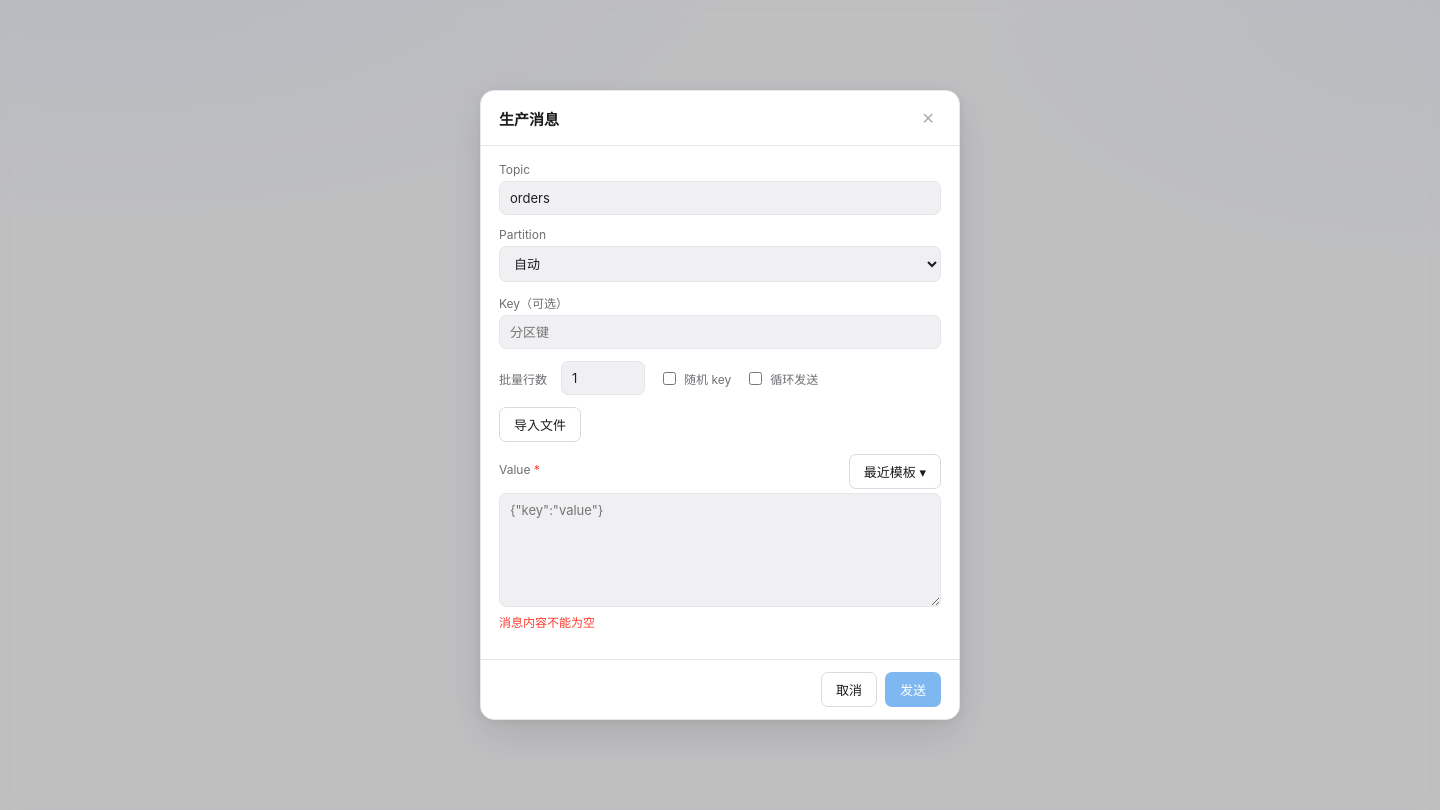
ProducerPanel › sends the same value N times in loop mode and shows the batch summary
The image size is (1440, 810).
Type "payload" into the text box with test id "input-value" at x=720, y=550, box x1=499 y1=493 x2=941 y2=607
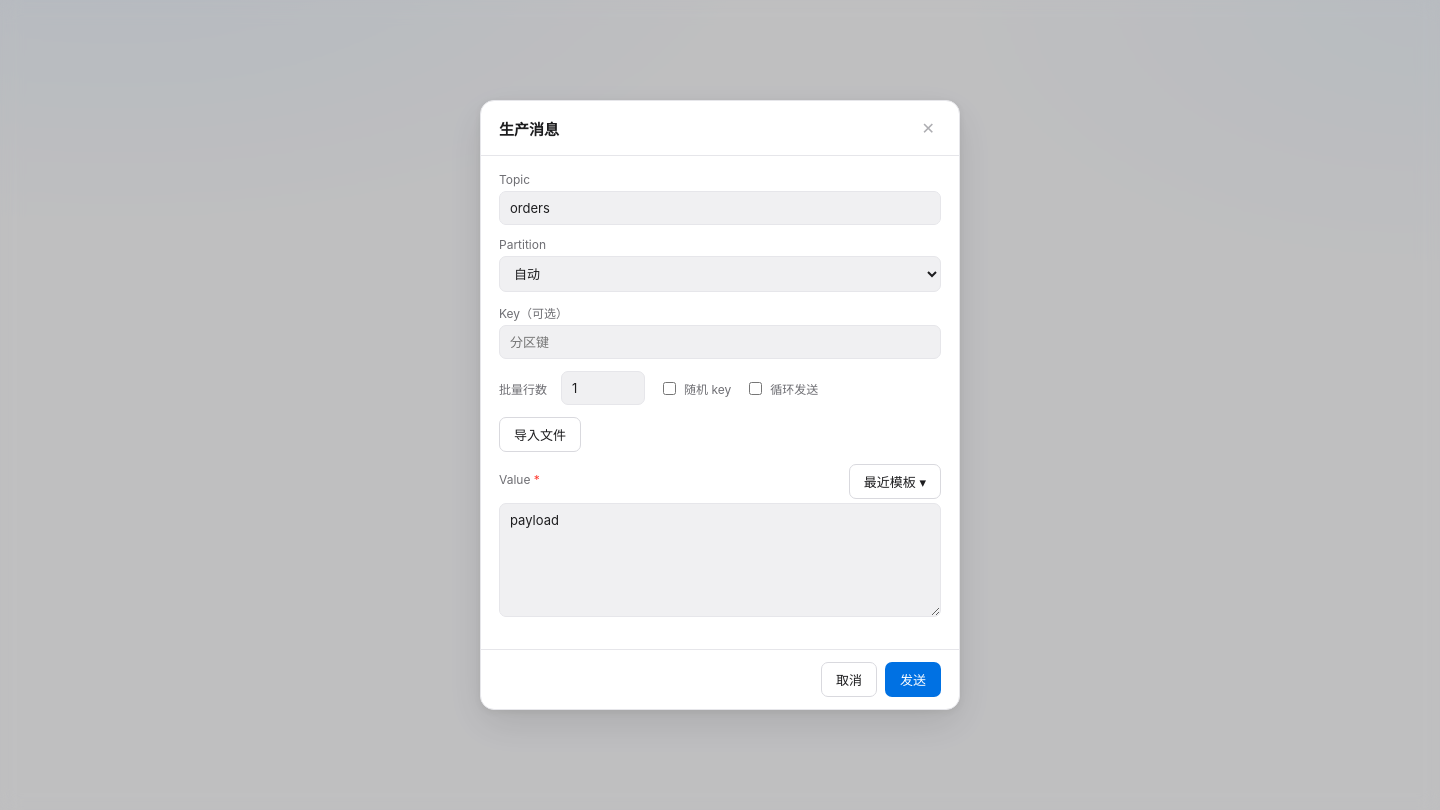
Replace the text in the number field with test id "input-count" with "3" at x=603, y=388, box x1=561 y1=371 x2=645 y2=405
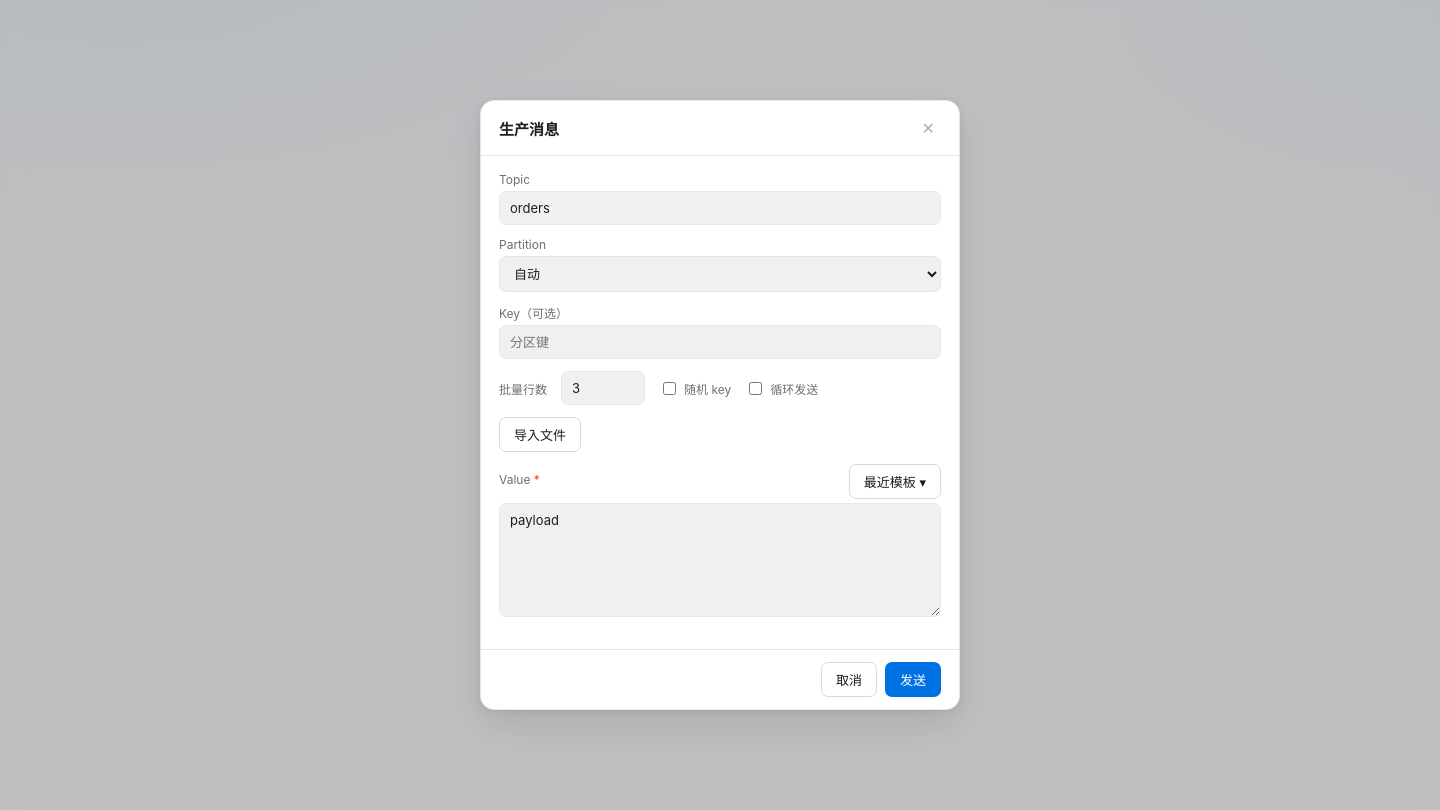
Click the checkbox with test id "input-loop" at x=756, y=388, box x1=749 y1=382 x2=762 y2=394
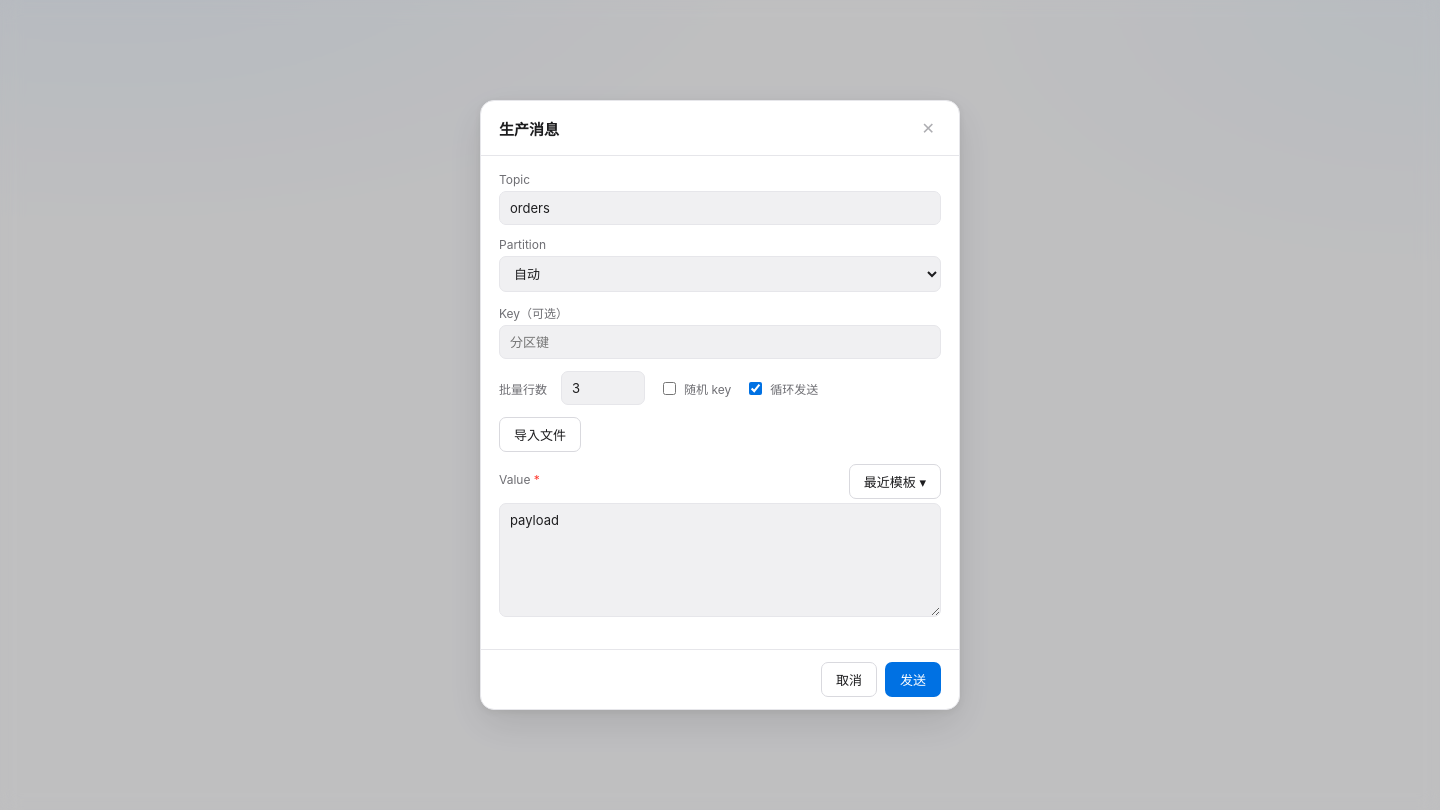
Click the button with test id "btn-produce" at x=913, y=680, box x1=885 y1=662 x2=941 y2=697
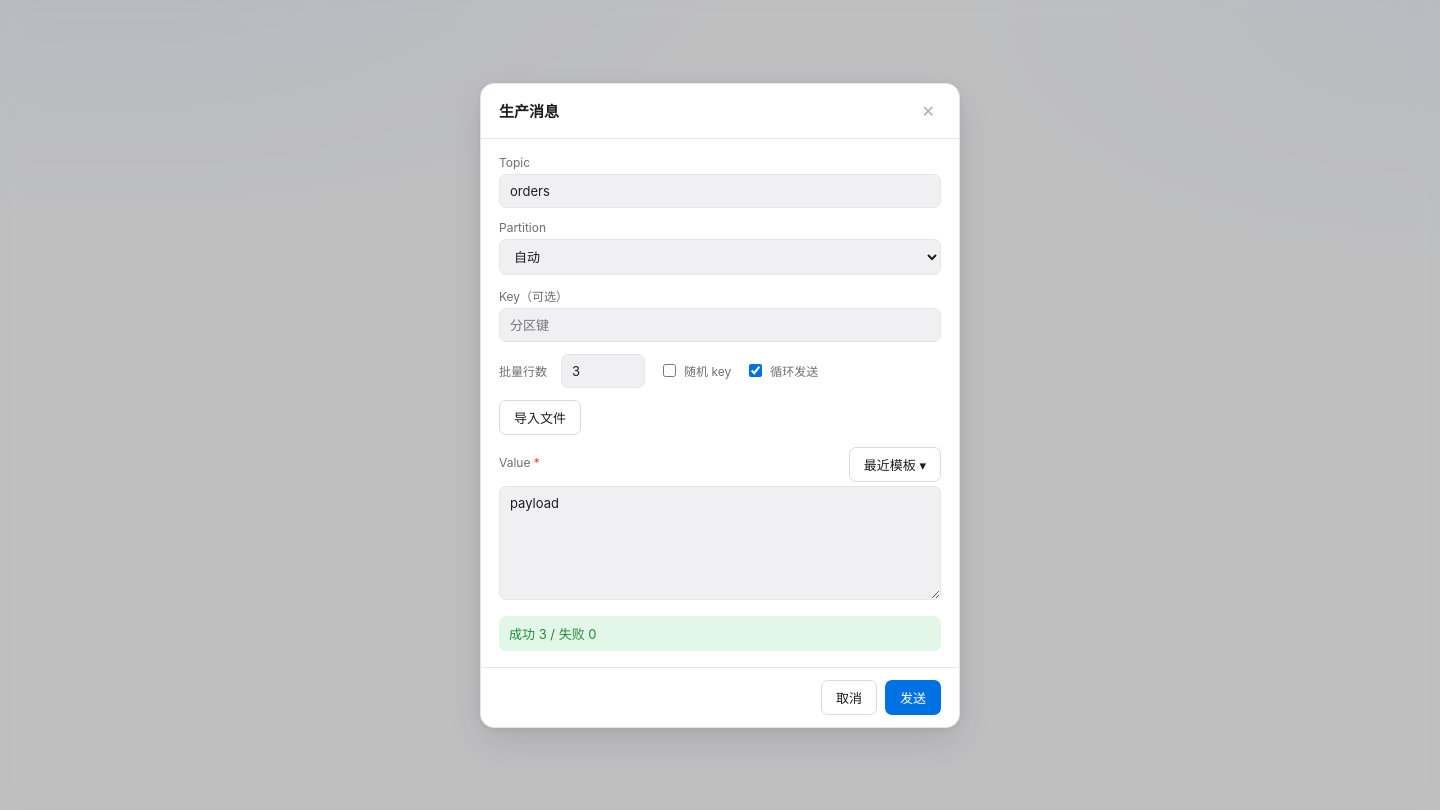
Result: the text with test id "batch-summary" reads "成功 3 / 失败 0" at x1=509 y1=626 x2=596 y2=642
